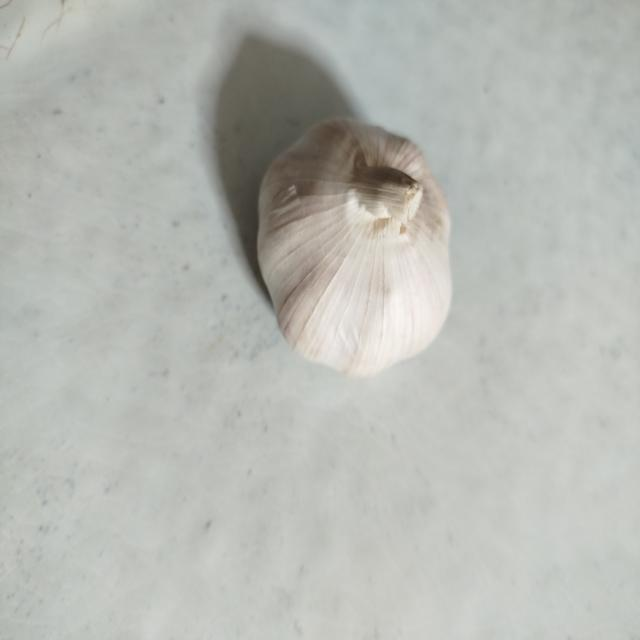garlic: (256, 115, 452, 378)
